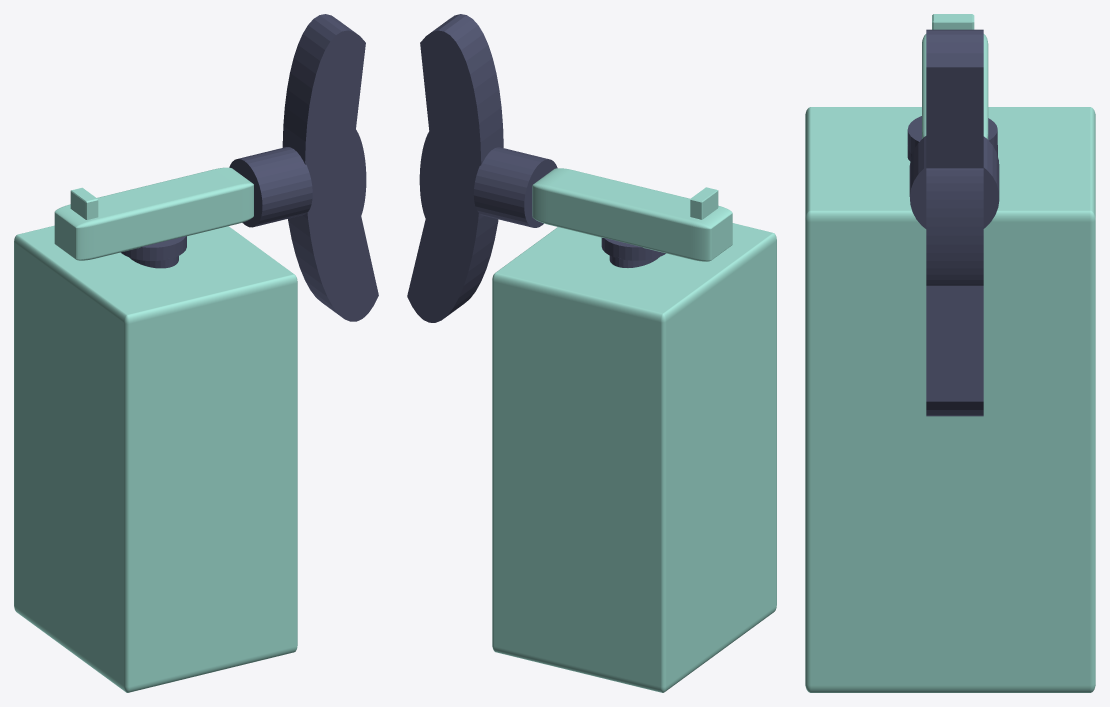
File: CArm Bracket.fbx
3 views of the same model, side by side, from view 1: azimuth 30°, elevation 25°; view 2: azimuth 150°, elevation 25°; view 3: azimuth 270°, elevation 25° (orthographic). The views are drawn at different scales.
Visible parts, largest first — view 1: Halter, CArm Halter, Cube.008, Cylinder.011, Cylinder.001, Cube.009; view 2: Halter, CArm Halter, Cube.008, Cylinder.011, Cylinder.001, Cube.009; view 3: Halter, CArm Halter, Cylinder.011, Cube.008, Cube.009, Cylinder.001.
Part boxes in pixels (x1,y1,x2,y2): Halter: (14,225,297,692); CArm Halter: (282,14,378,321); Cube.008: (54,167,253,260); Cylinder.011: (229,147,312,227); Cylinder.001: (121,236,186,260); Cube.009: (70,187,98,219); Halter: (492,223,776,692); CArm Halter: (407,14,503,322); Cube.008: (532,168,732,261); Cylinder.011: (473,147,557,227); Cylinder.001: (601,238,665,260); Cube.009: (690,187,718,219); Halter: (805,107,1095,692); CArm Halter: (926,29,983,416); Cylinder.011: (909,136,999,228); Cube.008: (922,34,988,139); Cube.009: (932,14,974,29); Cylinder.001: (907,116,997,153).
Size of the model in its own units: 1.48 by 2.64 by 0.963.
